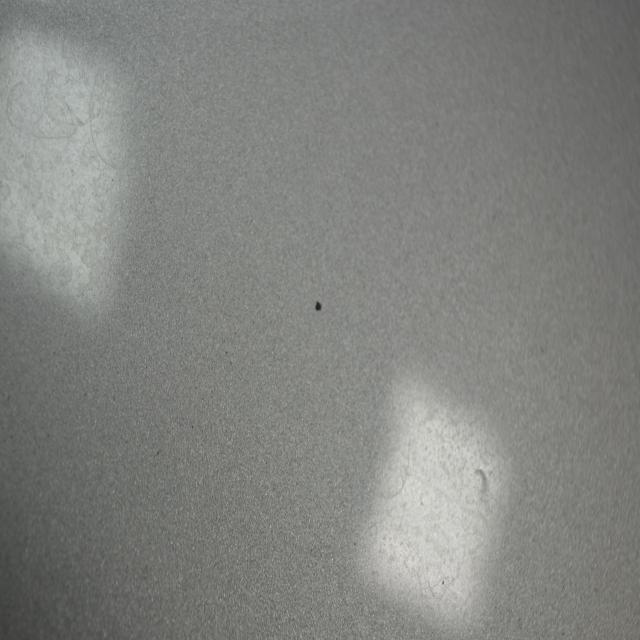dirt: (310, 296, 326, 318)
water marks: (6, 158, 110, 304), (398, 519, 477, 611), (422, 412, 493, 511), (3, 76, 87, 148), (90, 64, 143, 177), (368, 410, 424, 514), (461, 449, 495, 509)
